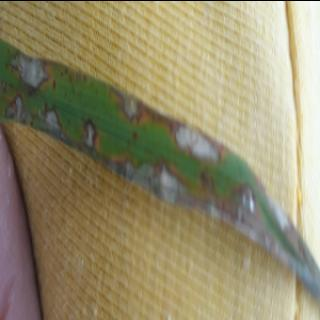Blast: (4, 59, 111, 147)
